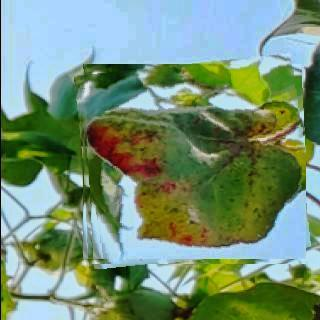blight: (77, 59, 305, 264)
